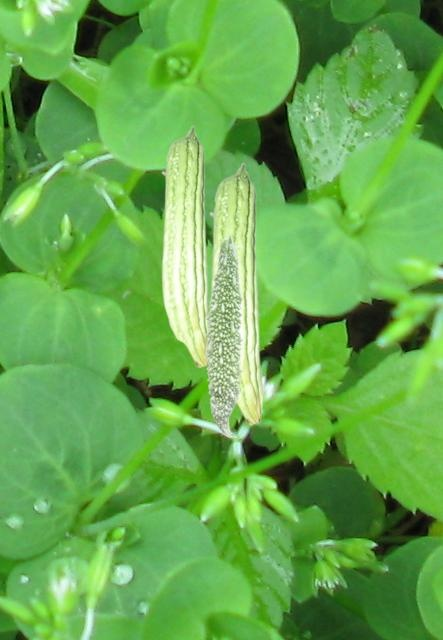ampalaya: (207, 160, 263, 427), (159, 125, 208, 369), (202, 234, 245, 438)
